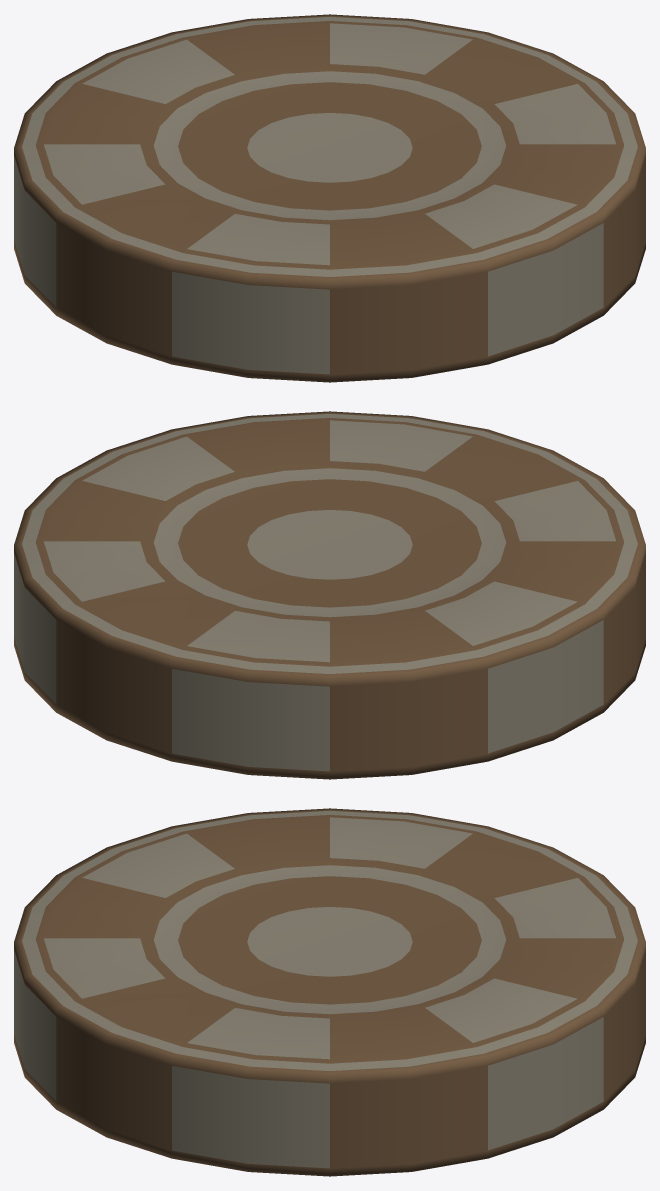
The model's file is chip_brown.fbx.
The picture shows the model from 3 angles, top to bottom: view 1: azimuth 30°, elevation 25°; view 2: azimuth 150°, elevation 25°; view 3: azimuth 270°, elevation 25°; orthographic projection.
Parts seen in each view (by area): view 1: Chip.003; view 2: Chip.003; view 3: Chip.003.
Boxes of the visible parts, x1=… form: Chip.003: x1=14, y1=14, x2=645, y2=382; Chip.003: x1=14, y1=411, x2=645, y2=779; Chip.003: x1=14, y1=808, x2=645, y2=1176.
Bounding box in the file's own units: 3.68 × 0.6969 × 3.68.
